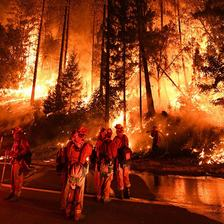fire: (106, 13, 219, 130), (7, 23, 100, 113)
